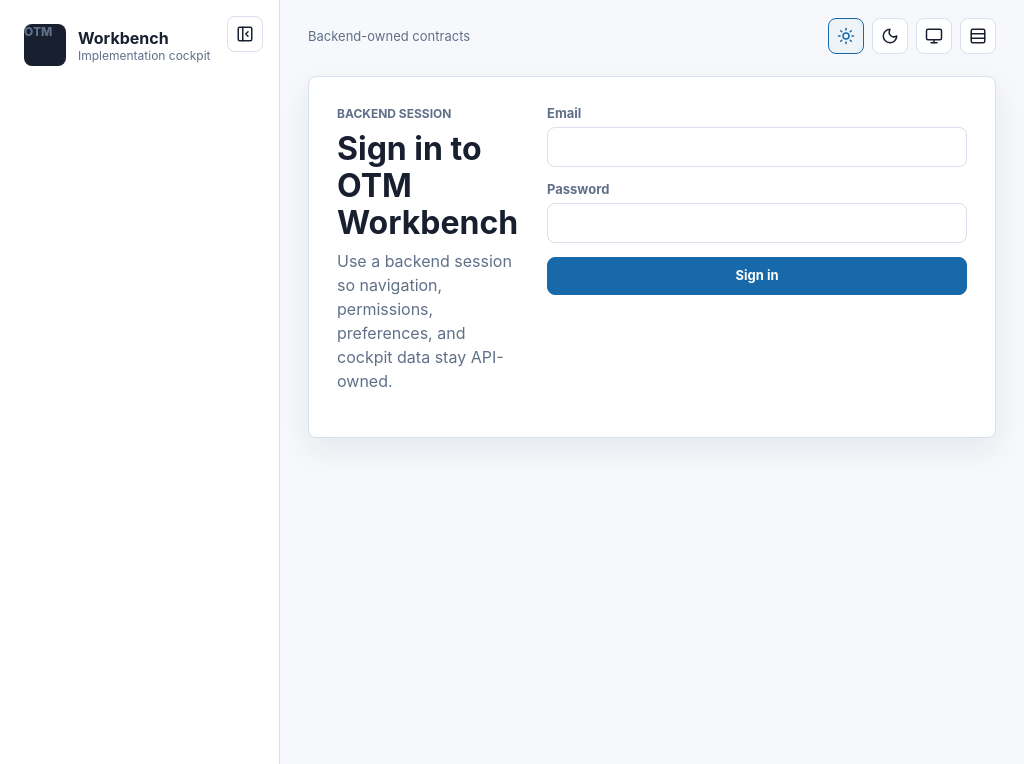
Test: Functional Assets Library journey › edits asset metadata on a direct route without showing the legacy workflow
The width and height of the screenshot is (1024, 764).
Type "admin@example.test" into the field labelled "Email" at (757, 147), box [547, 127, 967, 167]
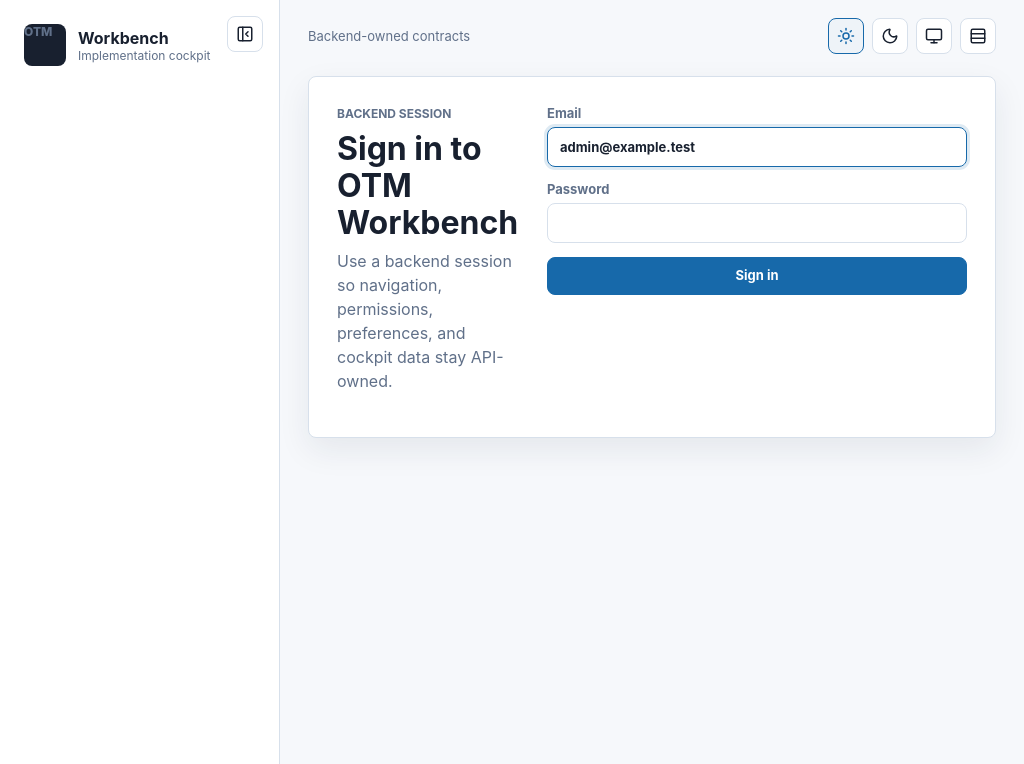
Type "SyntheticPass123!" into the password field labelled "Password" at (757, 223), box [547, 203, 967, 243]
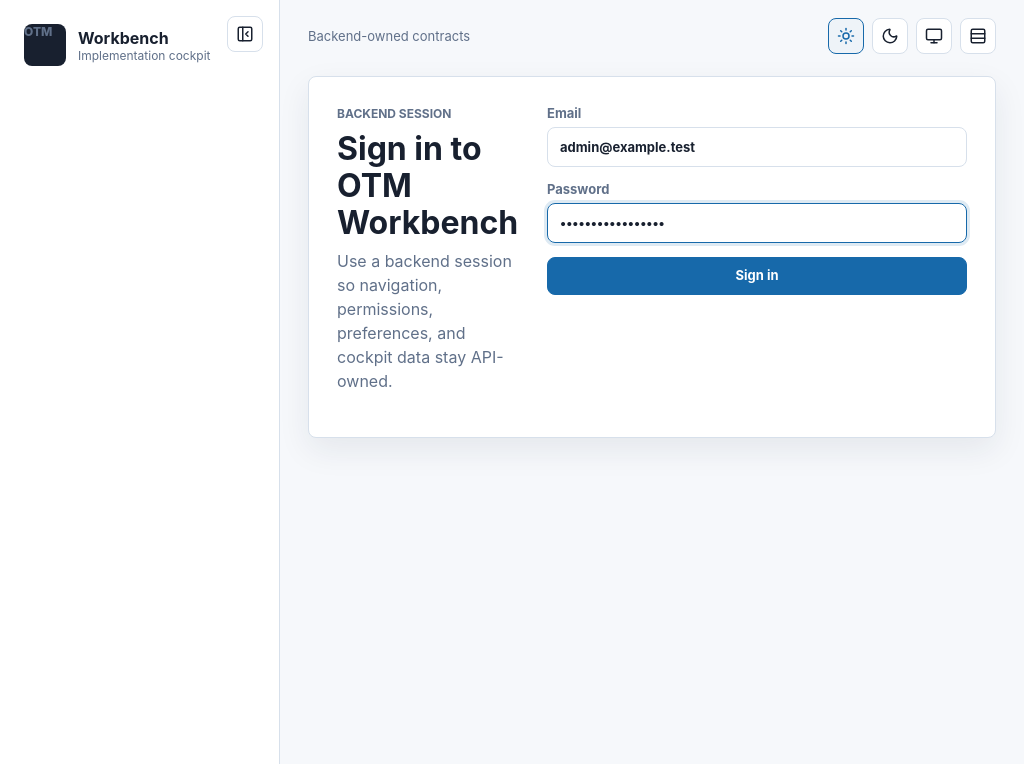
Click the button "Sign in" at (757, 276), box [547, 257, 967, 295]
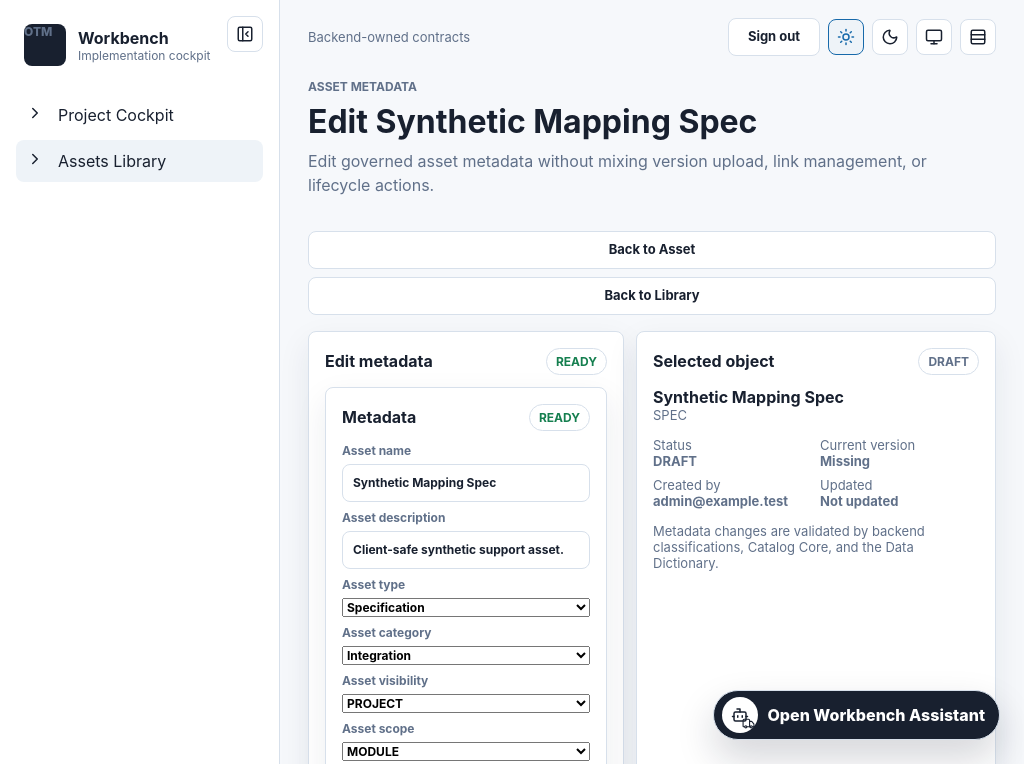
Result: the heading "Edit Synthetic Mapping Spec" is shown at [308, 102, 757, 141]
Replace the text in the field labelled "Asset name" with "Synthetic Mapping Spec Updated" at (466, 483), box [342, 464, 590, 502]
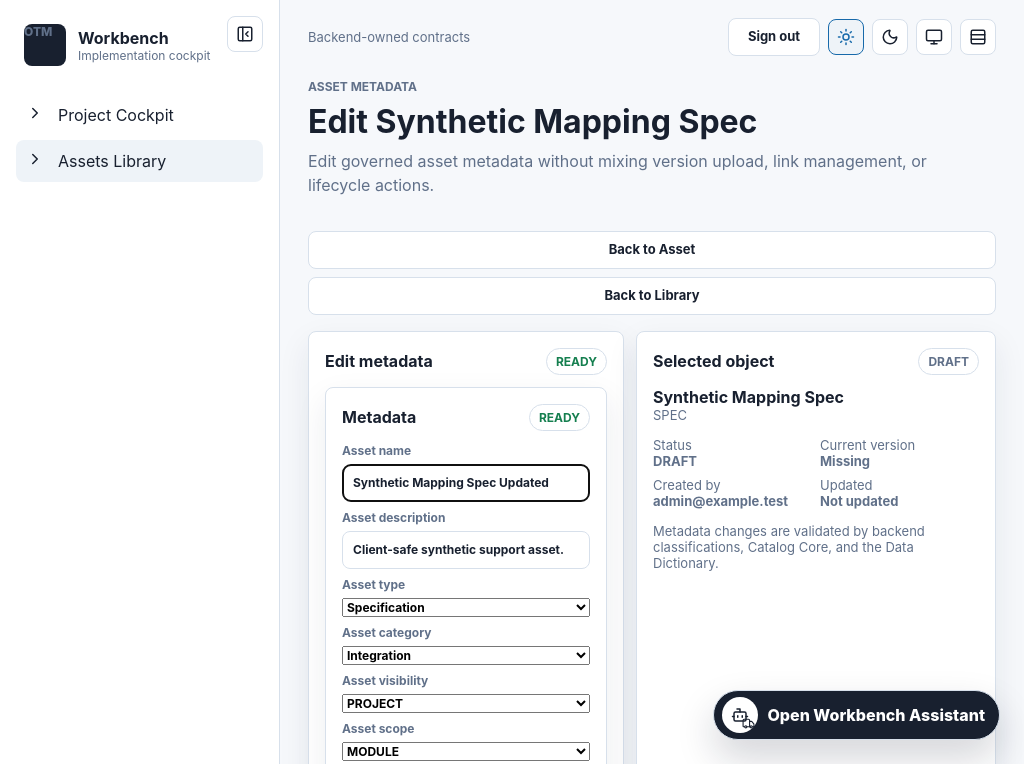
Replace the text in the field labelled "Asset description" with "Updated client-safe synthetic asset." at (466, 550), box [342, 531, 590, 569]
(page scrolled)
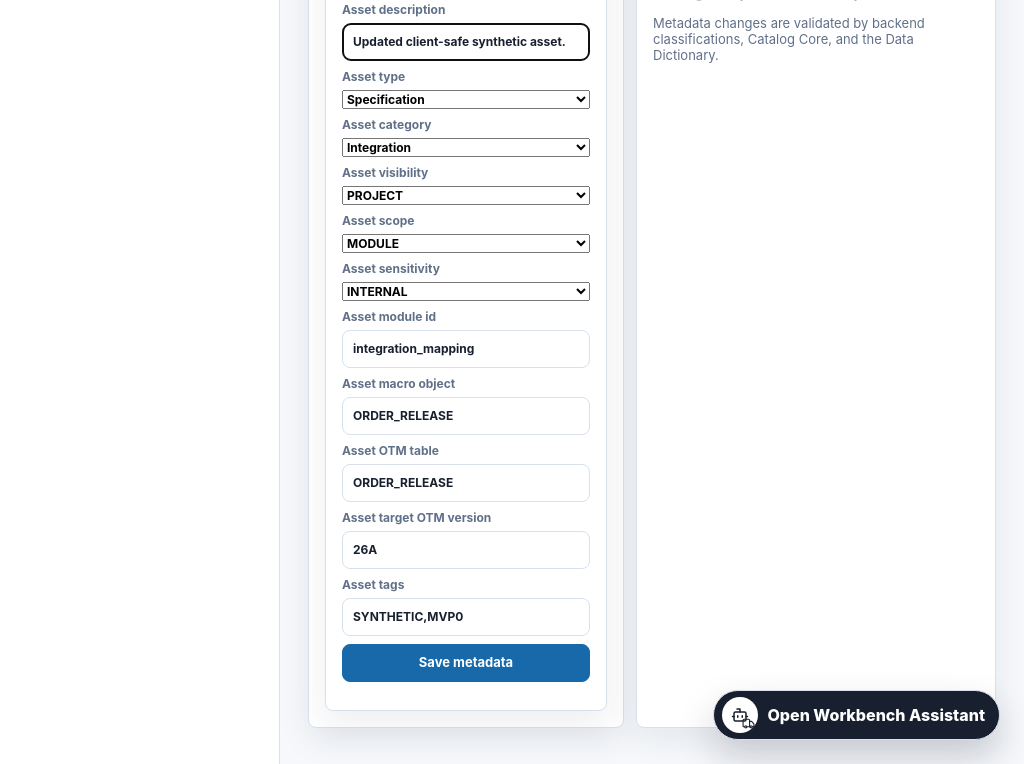
Click the button "Save metadata" at (466, 663), box [342, 644, 590, 682]
(page scrolled)
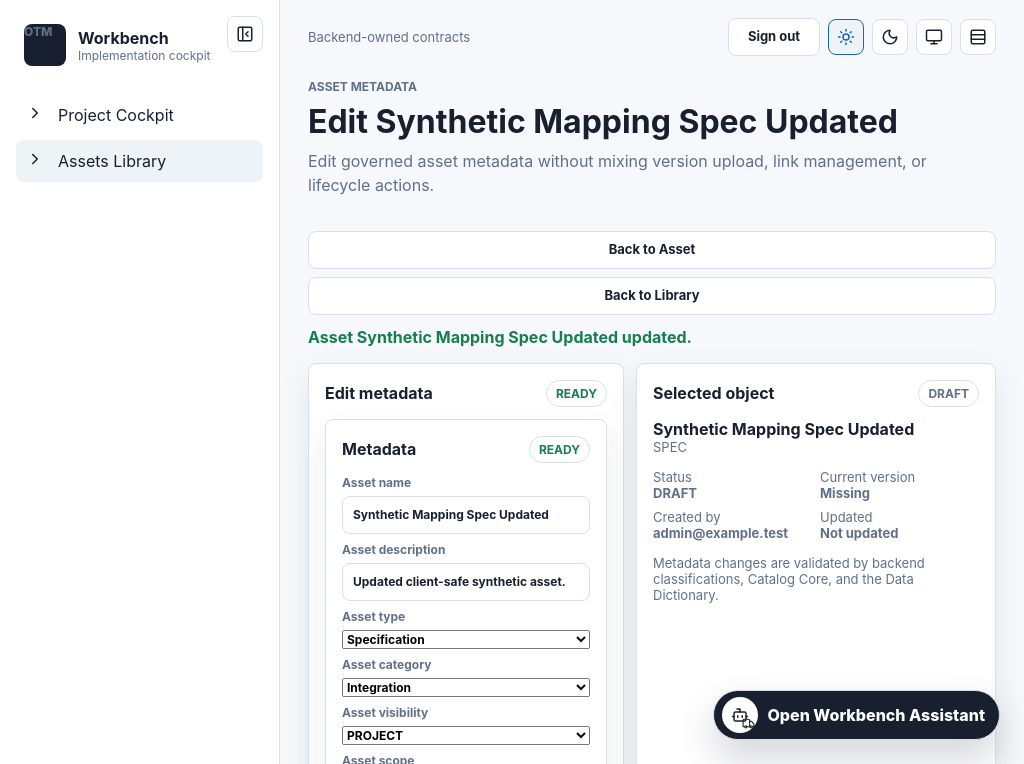
Result: the text "Asset Synthetic Mapping Spec Updated updated." is shown at [308, 327, 692, 347]
